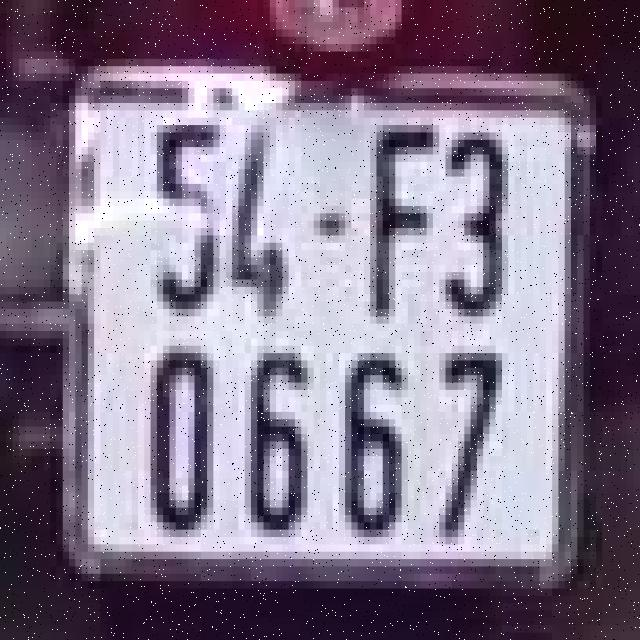0: (141, 338, 217, 552)
3: (442, 128, 524, 334)
4: (229, 129, 311, 327)
5: (135, 107, 229, 327)
6: (229, 342, 323, 541), (336, 335, 411, 548)
7: (430, 342, 518, 548)
F: (354, 118, 442, 331)
